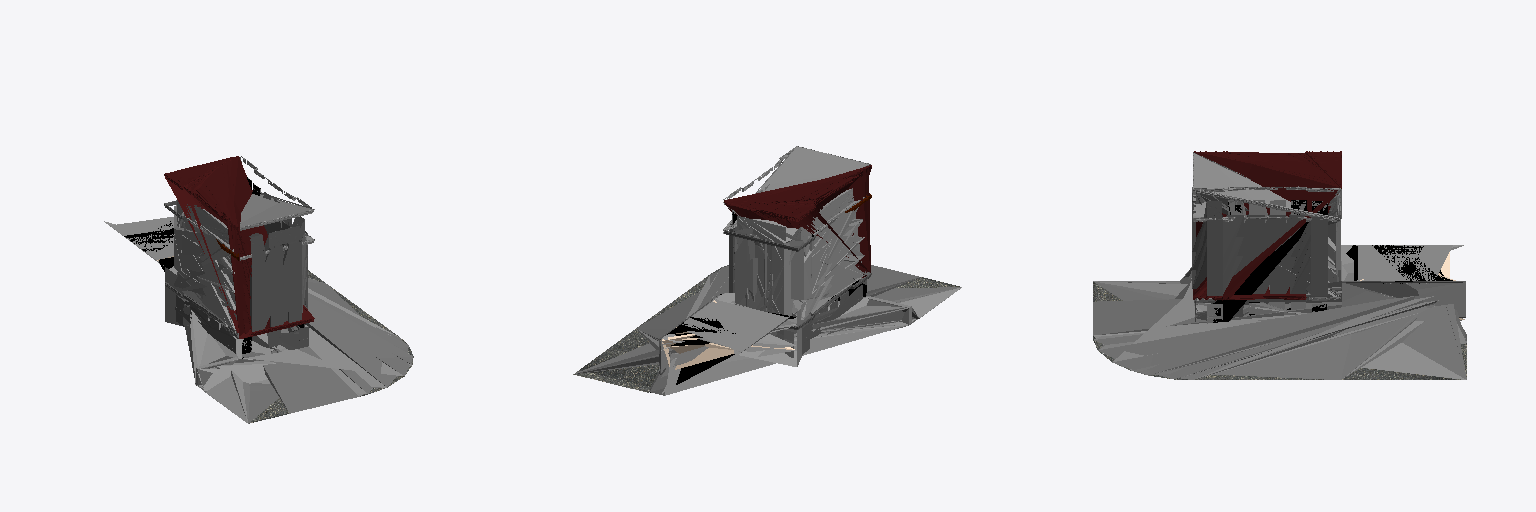
3 renders of one model, left to right at view 1: azimuth 30°, elevation 25°; view 2: azimuth 150°, elevation 25°; view 3: azimuth 270°, elevation 25°, orthographic.
Visible parts, largest first — view 1: Main_Building, Plane04, Road; view 2: Main_Building, Plane04, Road; view 3: Main_Building, Plane04, Road.
Part boxes in pixels (x1,y1,x2,y2): Main_Building: (104, 156, 412, 423); Plane04: (157, 256, 411, 422); Road: (196, 270, 413, 423); Main_Building: (577, 146, 960, 393); Plane04: (576, 270, 961, 395); Road: (573, 265, 959, 395); Main_Building: (1093, 151, 1466, 379); Plane04: (1094, 252, 1466, 379); Road: (1093, 282, 1466, 379).
Bounding box in the file's own units: 8952 × 6314 × 14304.
12 materials, 1 textured.